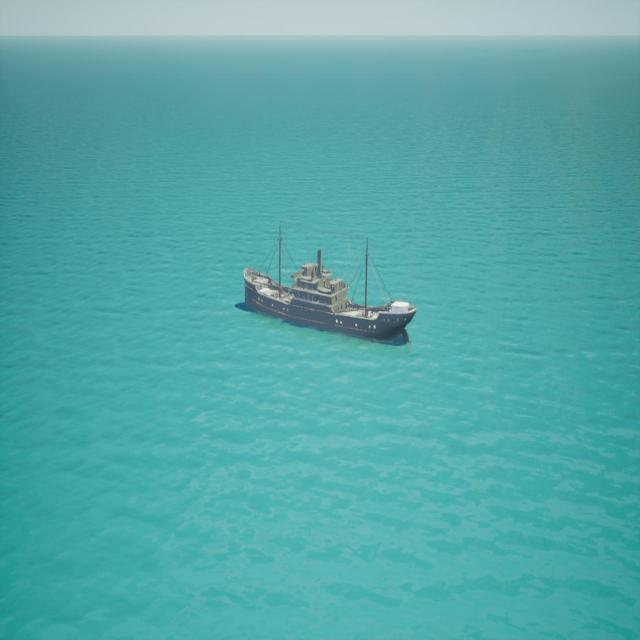fishing ship: (241, 230, 417, 346)
